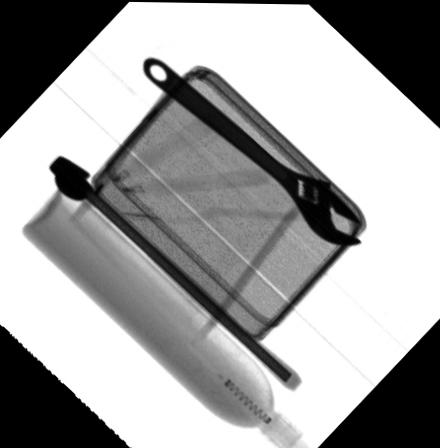Hammer: (48, 155, 302, 390)
Wrench: (140, 58, 363, 245)
